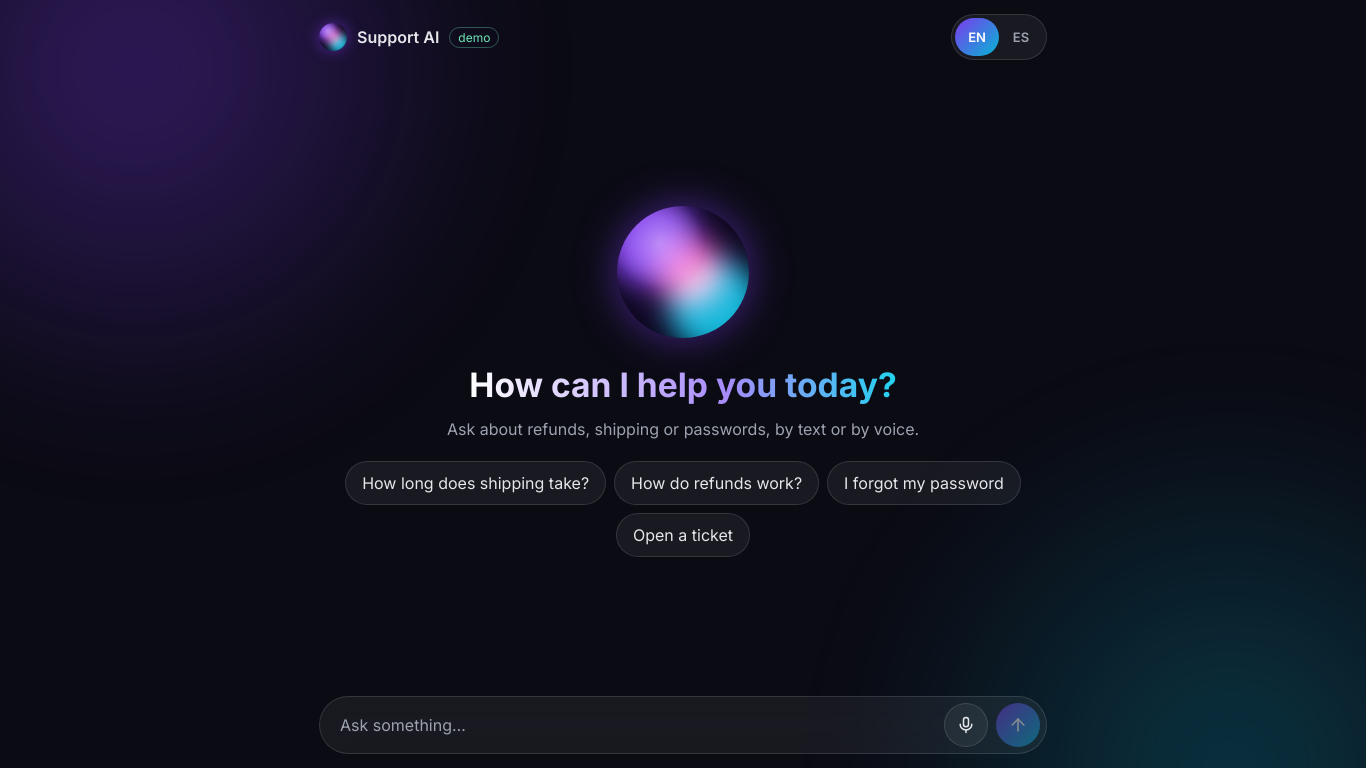
Test case: App › names the new conversation button in Spanish
Click the button "ES": (1021,37) top-left (999, 18), bottom-right (1043, 56)
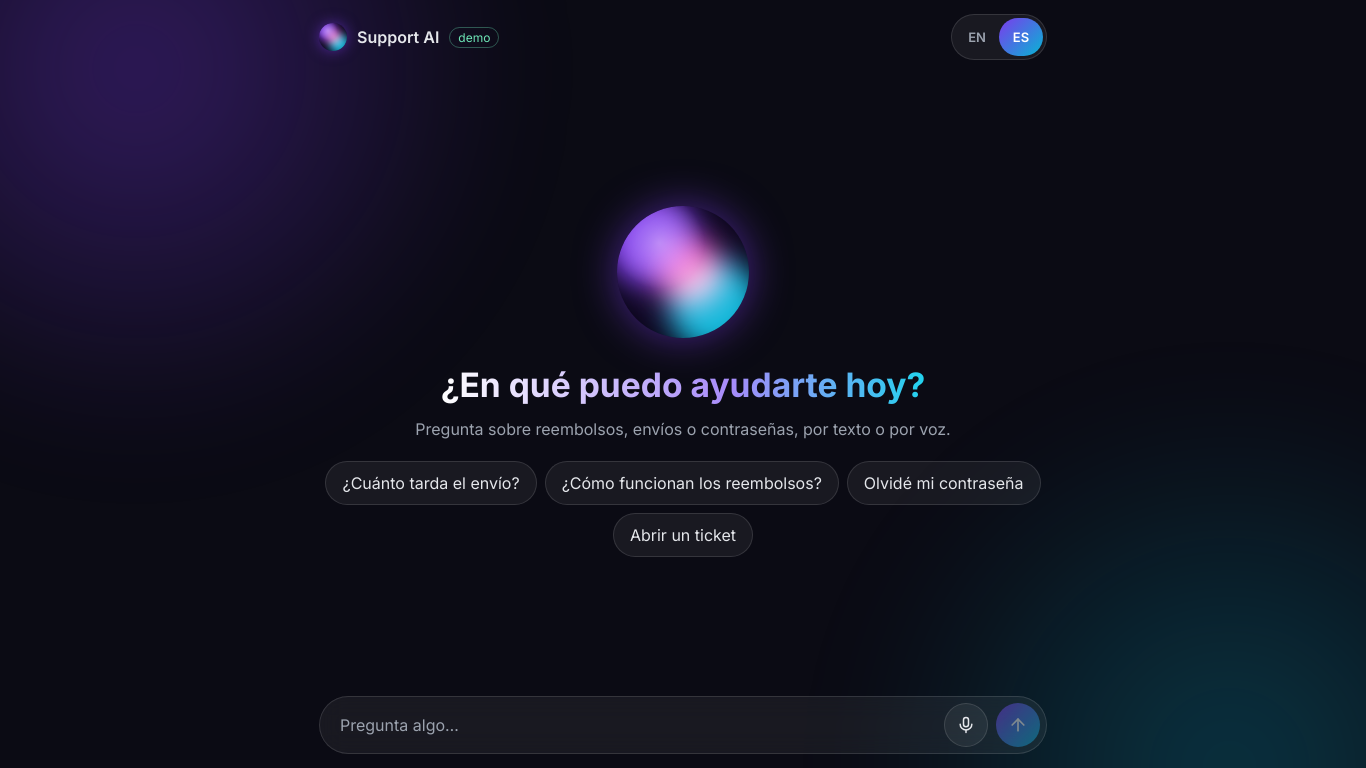
Click the button "¿Cuánto tarda el envío?": (431,482) top-left (326, 460), bottom-right (537, 504)
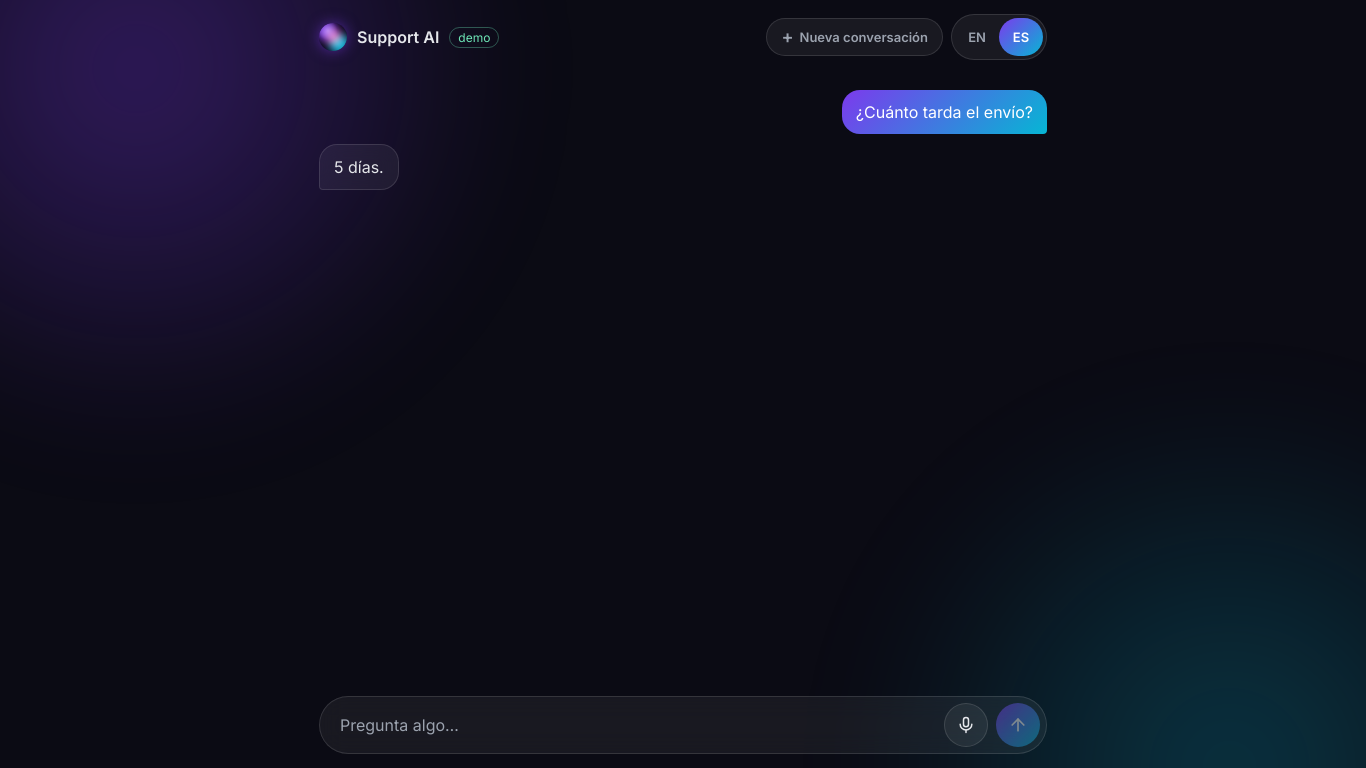
Result: the button "+ Nueva conversación" is shown at top-left (766, 18), bottom-right (943, 56)
